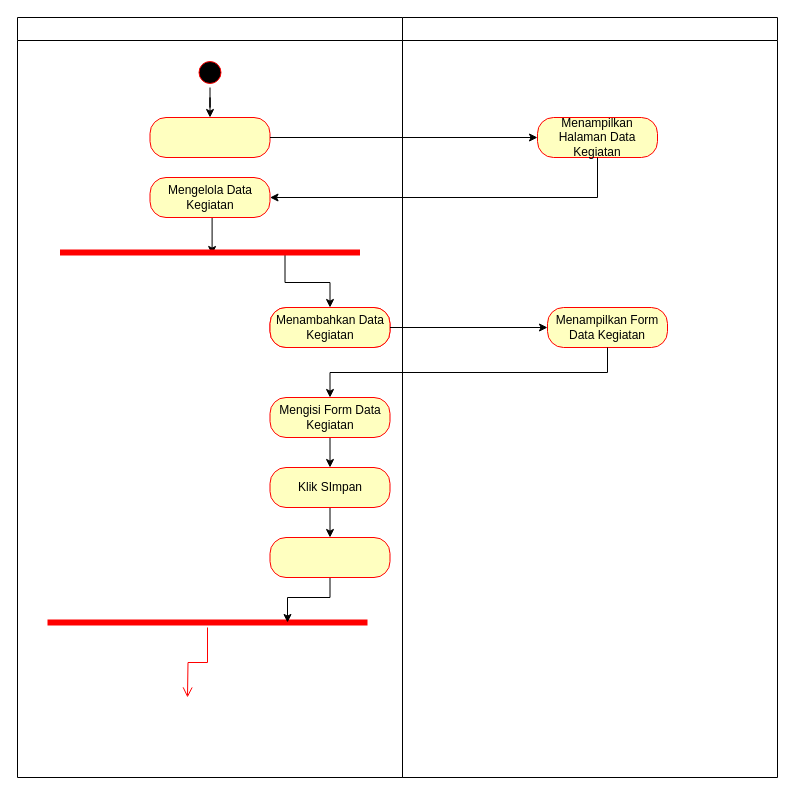
This 795x795 diagram has some shape labels left out. Each missing label, with the box of its shape:
Admin: (16, 16, 402, 778)
Membuka Halaman Data Kegiatan: (149, 116, 270, 158)
Menampilkan Pesan Berhasil Ditambahkan: (269, 536, 390, 578)
System: (402, 16, 778, 778)
